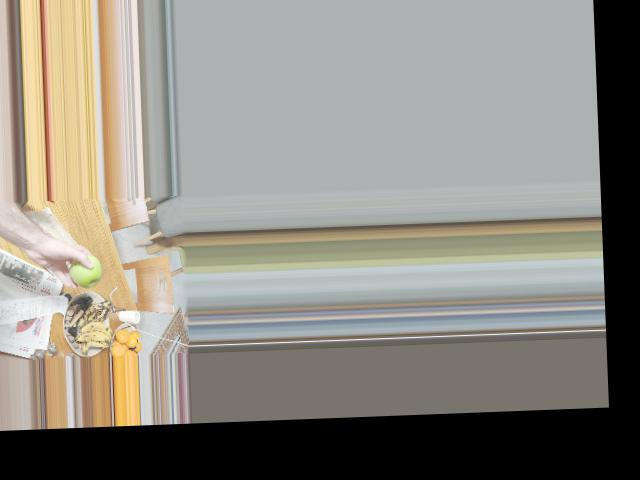apple: (62, 251, 104, 288)
